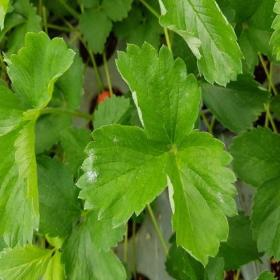Powdery Mildew Leaf: (75, 123, 178, 228), (164, 128, 239, 269), (114, 41, 202, 146), (158, 0, 245, 87)
